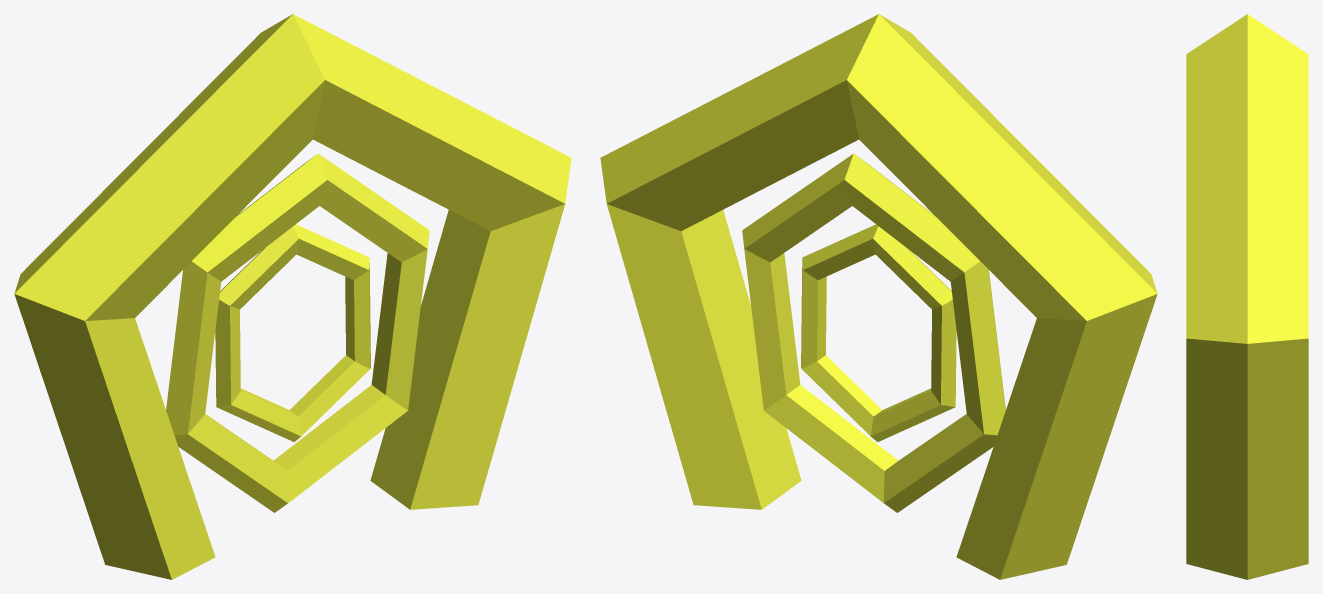
Rendered from Gate.fbx.
3 renders of one model, left to right at view 1: azimuth 30°, elevation 25°; view 2: azimuth 150°, elevation 25°; view 3: azimuth 270°, elevation 25°, orthographic. The views are drawn at different scales.
Visible parts, largest first — view 1: Torus.003; view 2: Torus.003; view 3: Torus.003.
Part boxes in pixels (left/top/right/bottom): Torus.003: left=14, top=14, right=571, bottom=579; Torus.003: left=600, top=14, right=1157, bottom=579; Torus.003: left=1186, top=14, right=1308, bottom=579.
Bounding box in the file's own units: 510 × 441 × 102.
